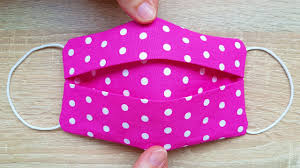FaceMask: (60, 19, 248, 152)
